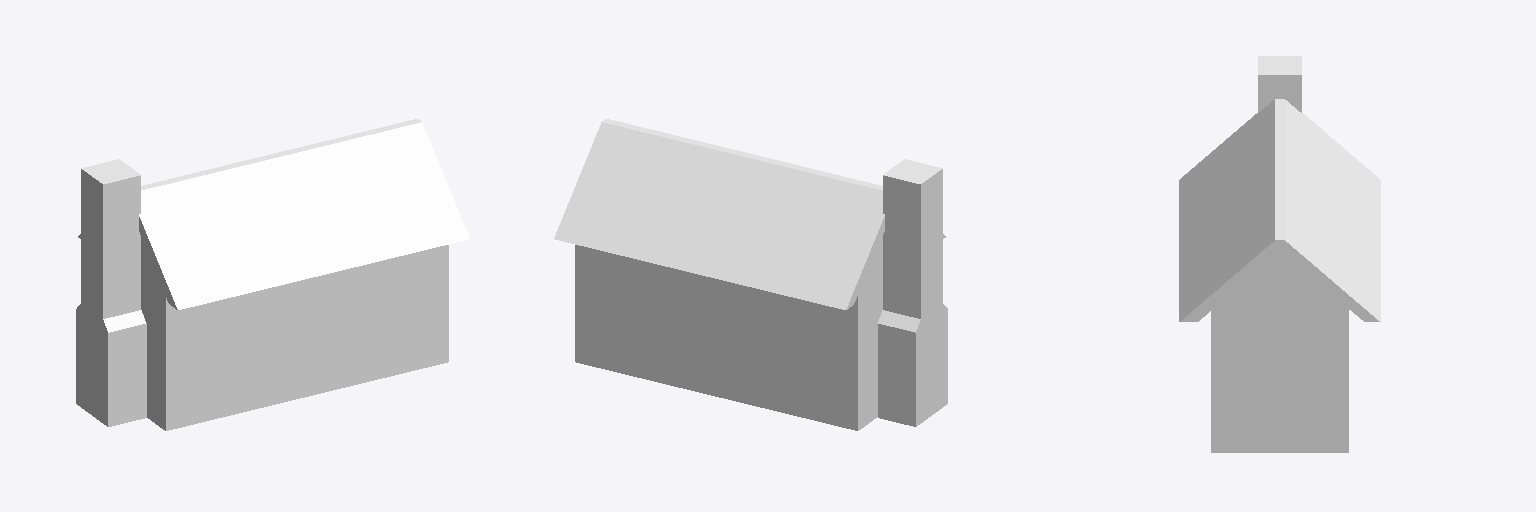
Rendered from house1.obj.
The picture shows the model from 3 angles: view 1: azimuth 30°, elevation 25°; view 2: azimuth 150°, elevation 25°; view 3: azimuth 270°, elevation 25°; orthographic projection.
Parts seen in each view (by area): view 1: mesh01; view 2: mesh01; view 3: mesh01.
Part boxes in pixels (x1,y1,x2,y2): mesh01: (76, 119, 469, 430); mesh01: (554, 119, 947, 430); mesh01: (1179, 56, 1380, 452).
Size of the model in its own units: 154 by 107 by 82.04.